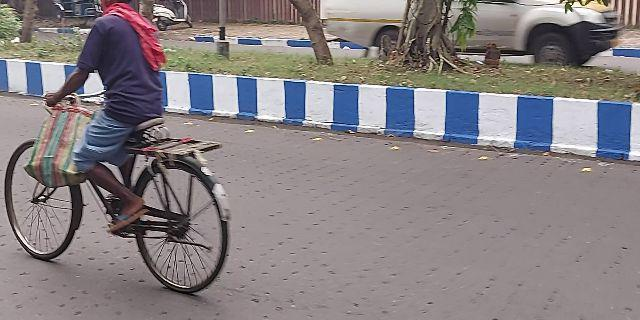Cycle: (6, 1, 235, 307)
